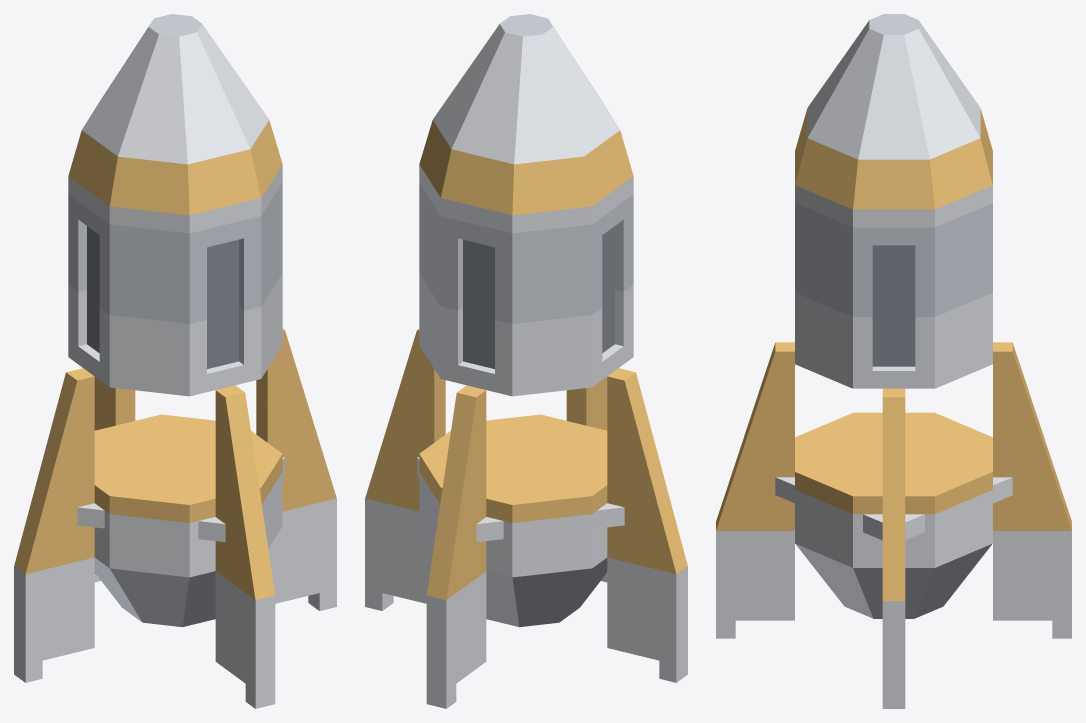
The model's file is rocket.glb.
3 renders of one model, left to right at view 1: azimuth 30°, elevation 25°; view 2: azimuth 150°, elevation 25°; view 3: azimuth 270°, elevation 25°, orthographic.
Parts seen in each view (by area): view 1: rocket_baseA, rocket_sidesA; view 2: rocket_baseA, rocket_sidesA; view 3: rocket_baseA, rocket_sidesA.
Part boxes in pixels (x1,y1,x2,y2): rocket_baseA: (14,14,336,708); rocket_sidesA: (87,226,238,368); rocket_baseA: (365,14,687,708); rocket_sidesA: (463,226,614,368); rocket_baseA: (716,14,1071,708); rocket_sidesA: (872,245,915,366).
Size of the model in its own units: 1.8 by 3.4 by 1.8.
